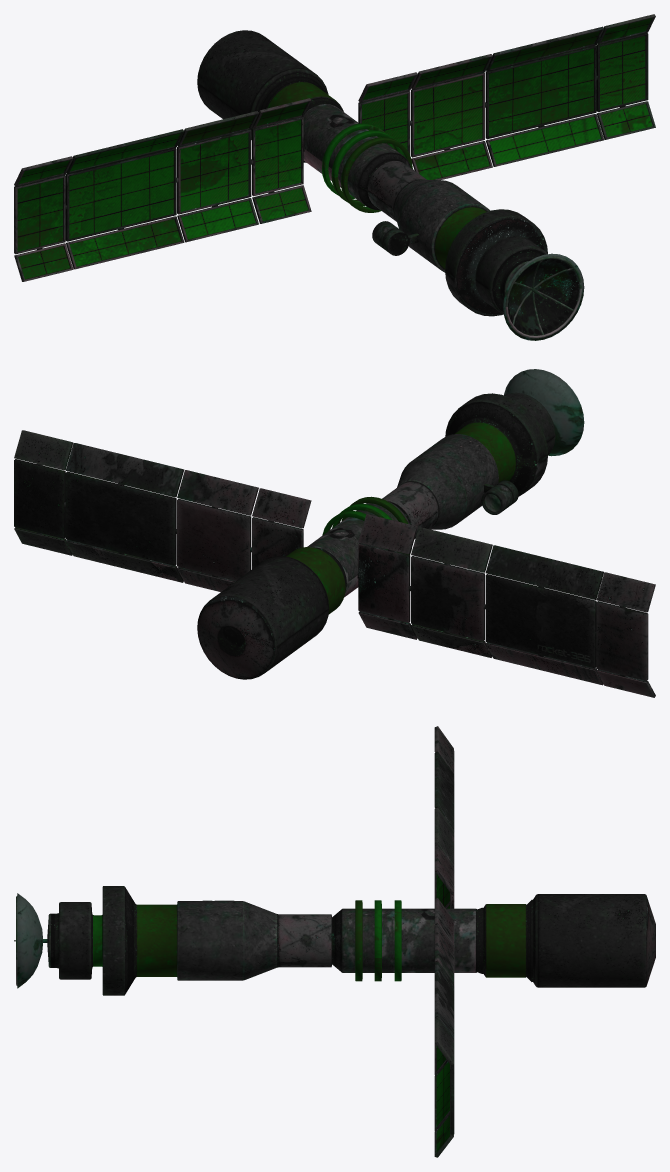
File: satellite01.fbx
3 renders of one model, top to bottom at view 1: azimuth 30°, elevation 25°; view 2: azimuth 150°, elevation 25°; view 3: azimuth 270°, elevation 25°, orthographic. The views are drawn at different scales.
Parts seen in each view (by area): view 1: Circle.004_Circle.005; view 2: Circle.004_Circle.005; view 3: Circle.004_Circle.005.
Boxes of the visible parts, x1,y1,x2,y2 form: Circle.004_Circle.005: (14,14,655,340); Circle.004_Circle.005: (14,369,655,697); Circle.004_Circle.005: (14,726,655,1157).
Size of the model in its own units: 663 by 114 by 570.
